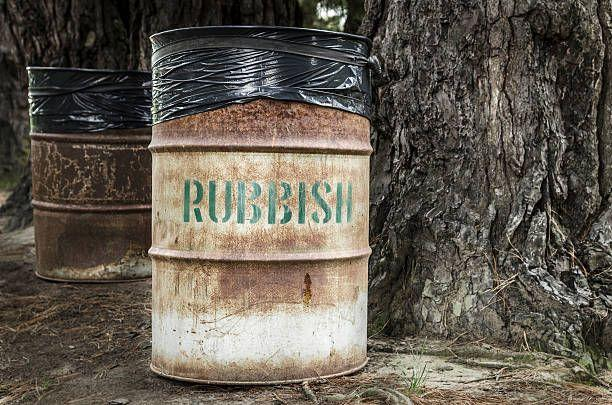metal: (145, 22, 383, 391), (23, 61, 164, 286)
